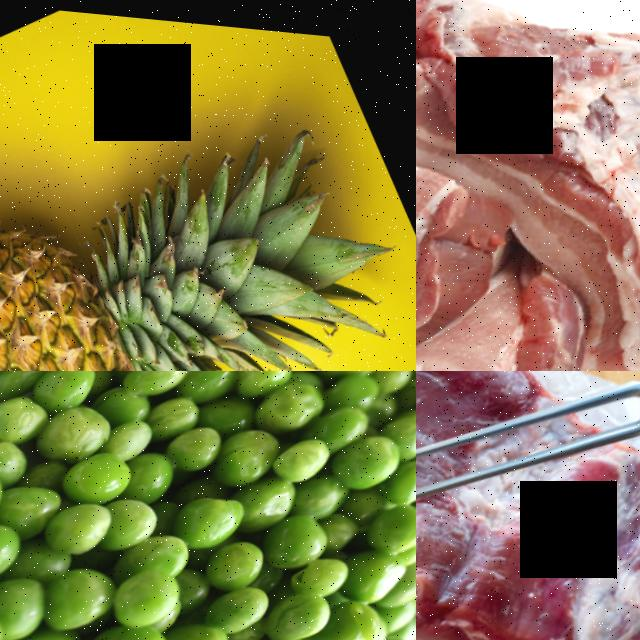peas: (0, 371, 416, 640)
pineapple: (0, 103, 322, 371)
pork belly: (416, 0, 640, 371), (416, 386, 640, 640), (416, 71, 579, 371), (416, 241, 640, 371), (416, 0, 529, 193), (416, 371, 494, 545)
